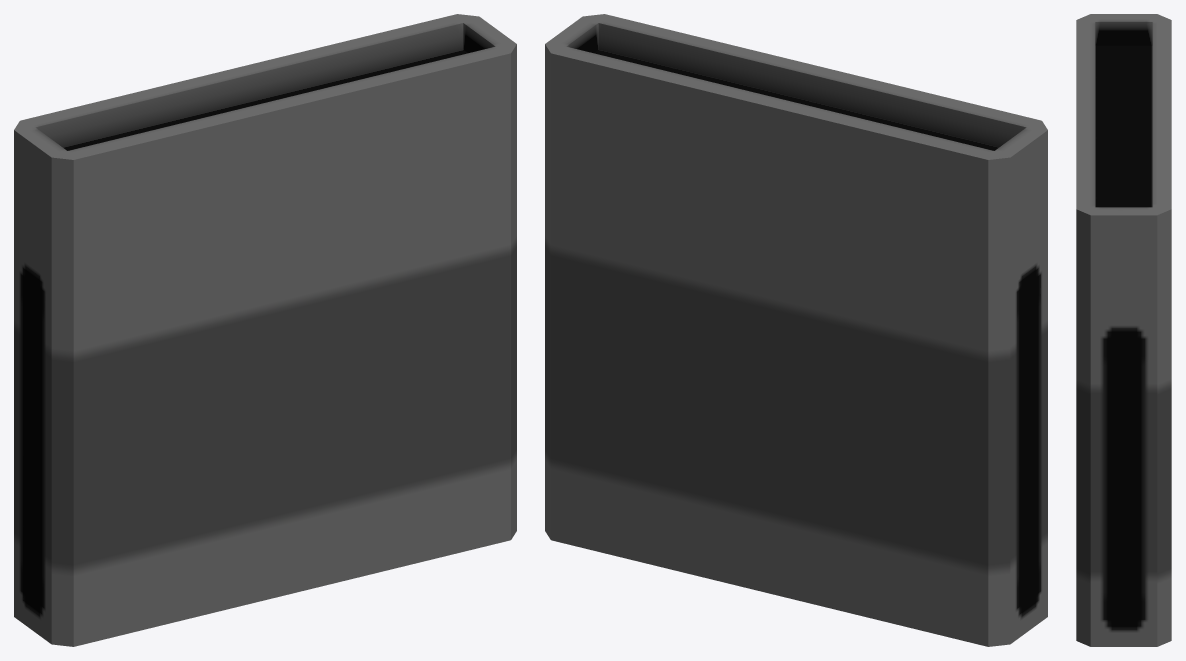
The model's file is wall_double_two_straight1.fbx.
The picture shows the model from 3 angles, left to right: view 1: azimuth 30°, elevation 25°; view 2: azimuth 150°, elevation 25°; view 3: azimuth 270°, elevation 25°; orthographic projection. The views are drawn at different scales.
Visible parts, largest first — view 1: wall_double_two_straight1; view 2: wall_double_two_straight1; view 3: wall_double_two_straight1.
Boxes of the visible parts, <box> form: wall_double_two_straight1: <box>14,14,516,646</box>; wall_double_two_straight1: <box>545,14,1047,646</box>; wall_double_two_straight1: <box>1076,14,1171,646</box>.
Size of the model in its own units: 1 by 1 by 0.2.
1 material, 1 textured.
